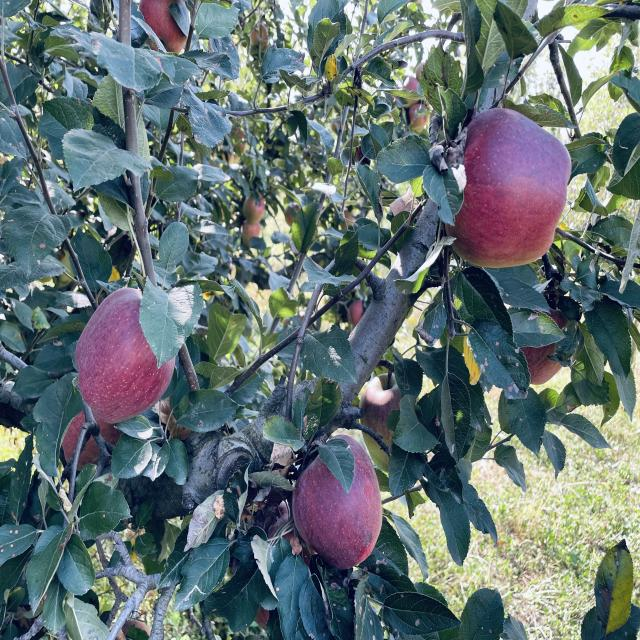Apple: (448, 108, 571, 268), (75, 287, 175, 423), (292, 435, 382, 568), (359, 373, 401, 445), (139, 0, 186, 53), (521, 343, 561, 385), (62, 412, 85, 462), (362, 433, 389, 472), (78, 437, 99, 470), (242, 195, 265, 225), (96, 420, 121, 447), (241, 222, 261, 247), (349, 300, 365, 327)
